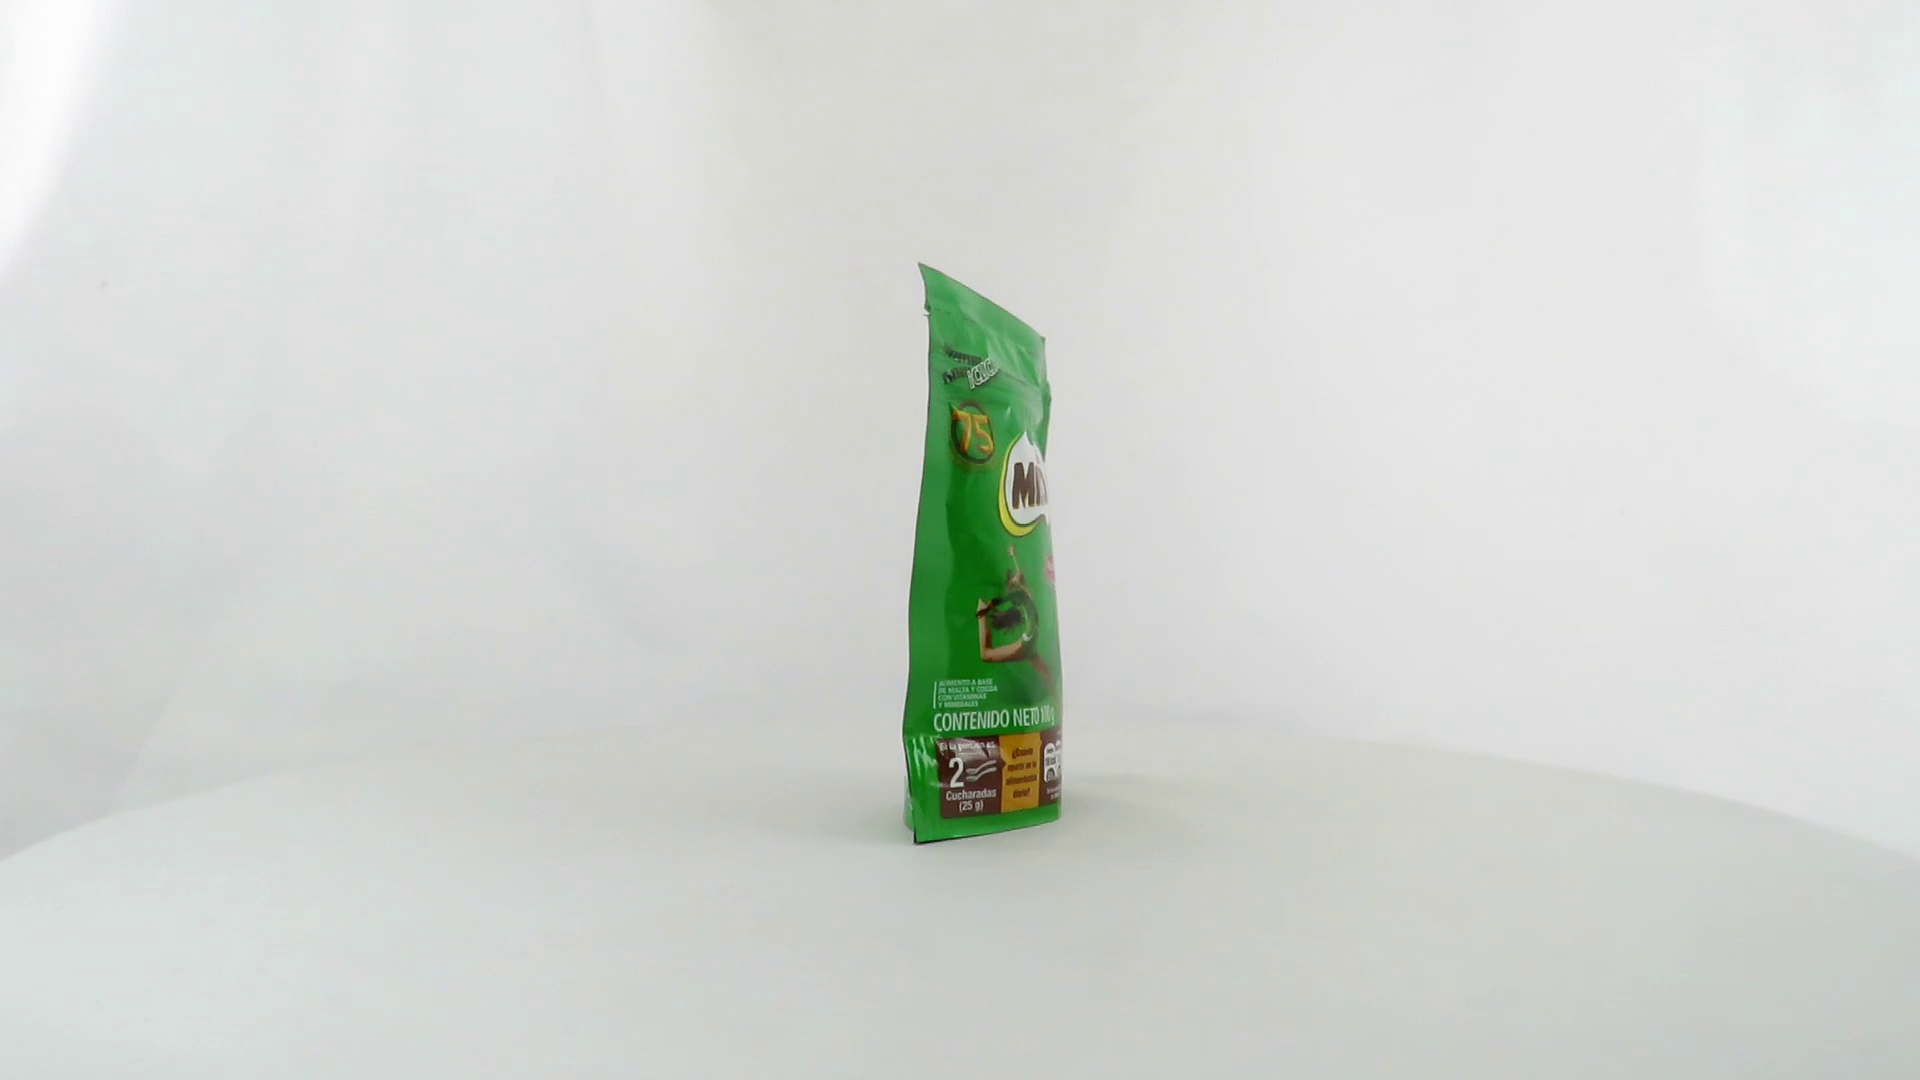COL0170203DYP10000: (897, 257, 1069, 852)
